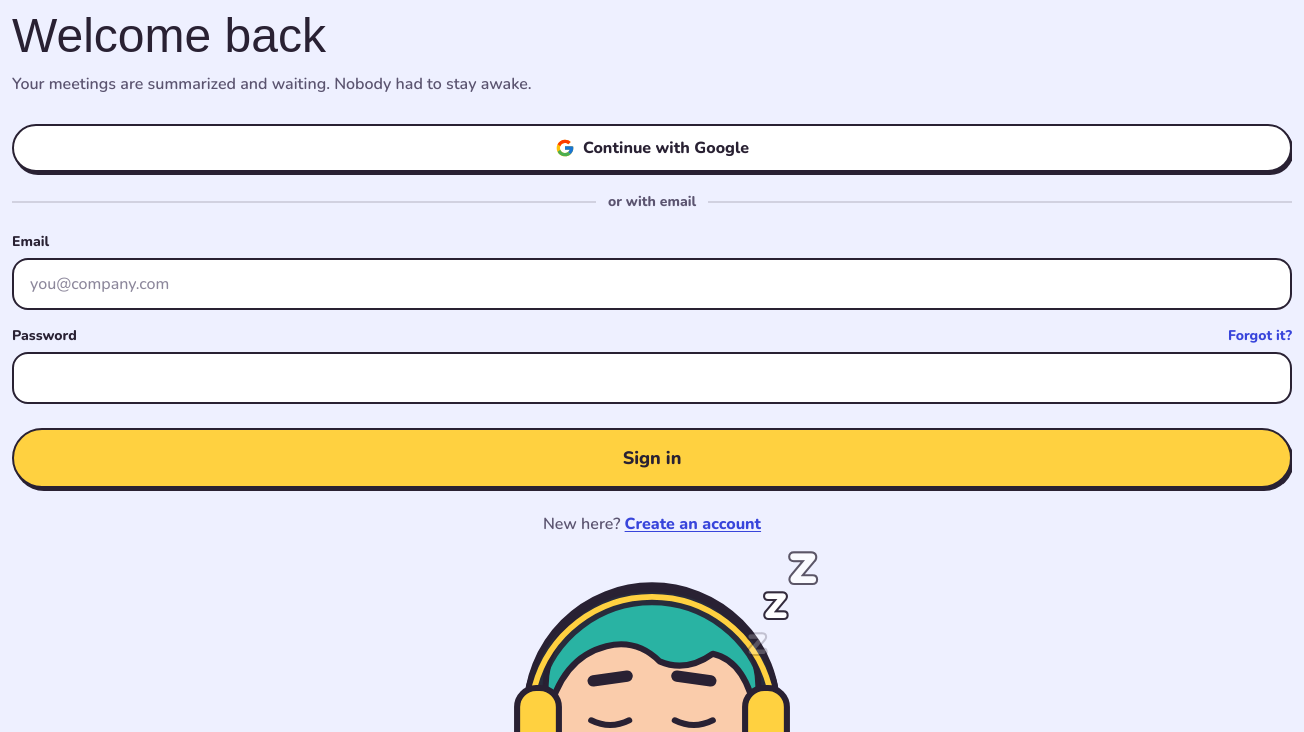
it: AuthForm › signs in with email and password
Type " me@example.com " into the field labelled "Email" at (652, 284), box [12,258,1292,310]
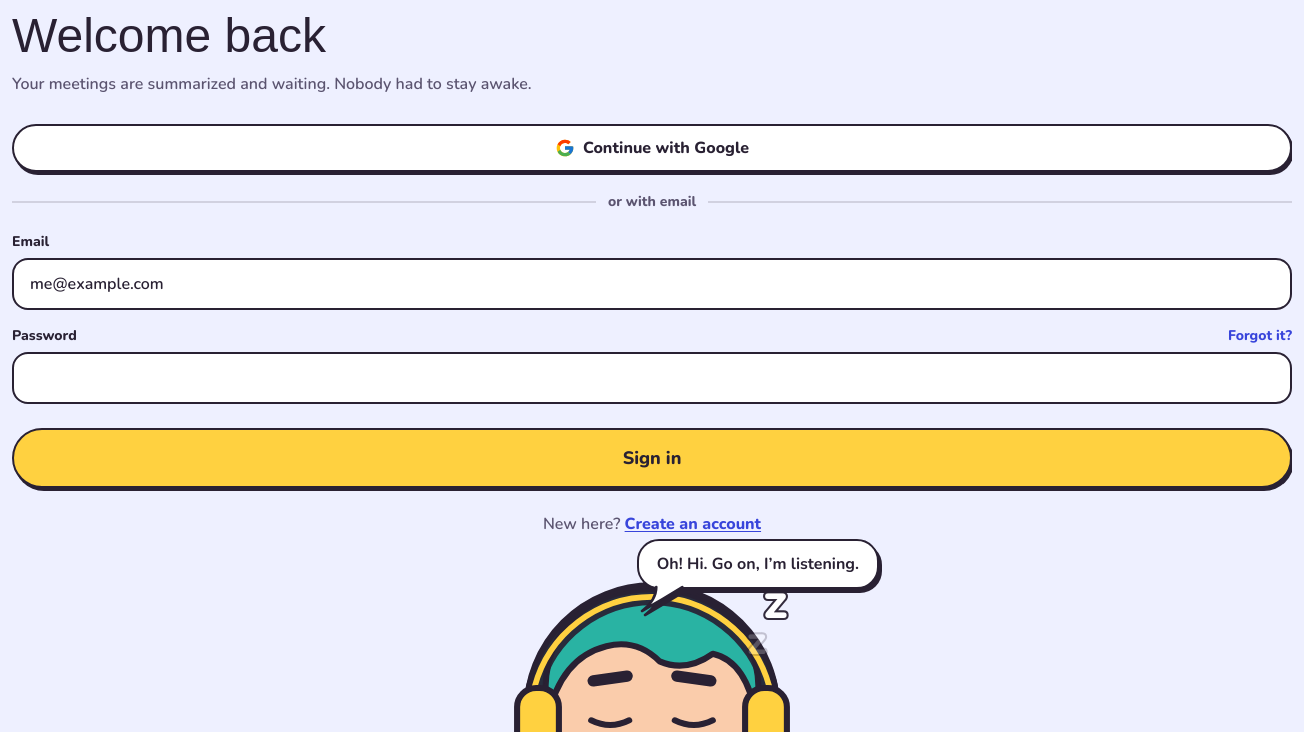
Now the text "Oh! Hi. Go on, I’m listening." is shown, box [637,539,879,589]
Type "secret1" into the password field labelled "Password" at (652, 378), box [12,352,1292,404]
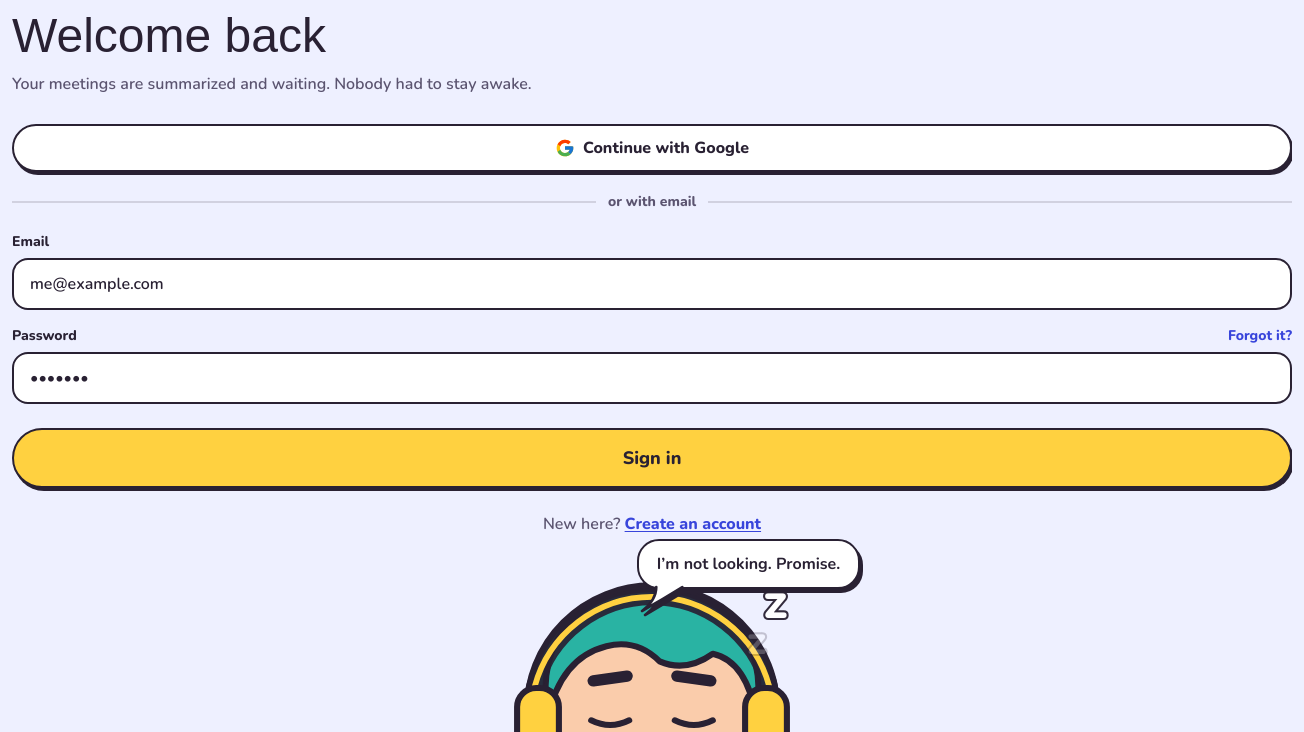
Now the text "I’m not looking. Promise." is shown, box [637,539,860,589]
Submit the form "Sign in", box [12,232,1292,488]
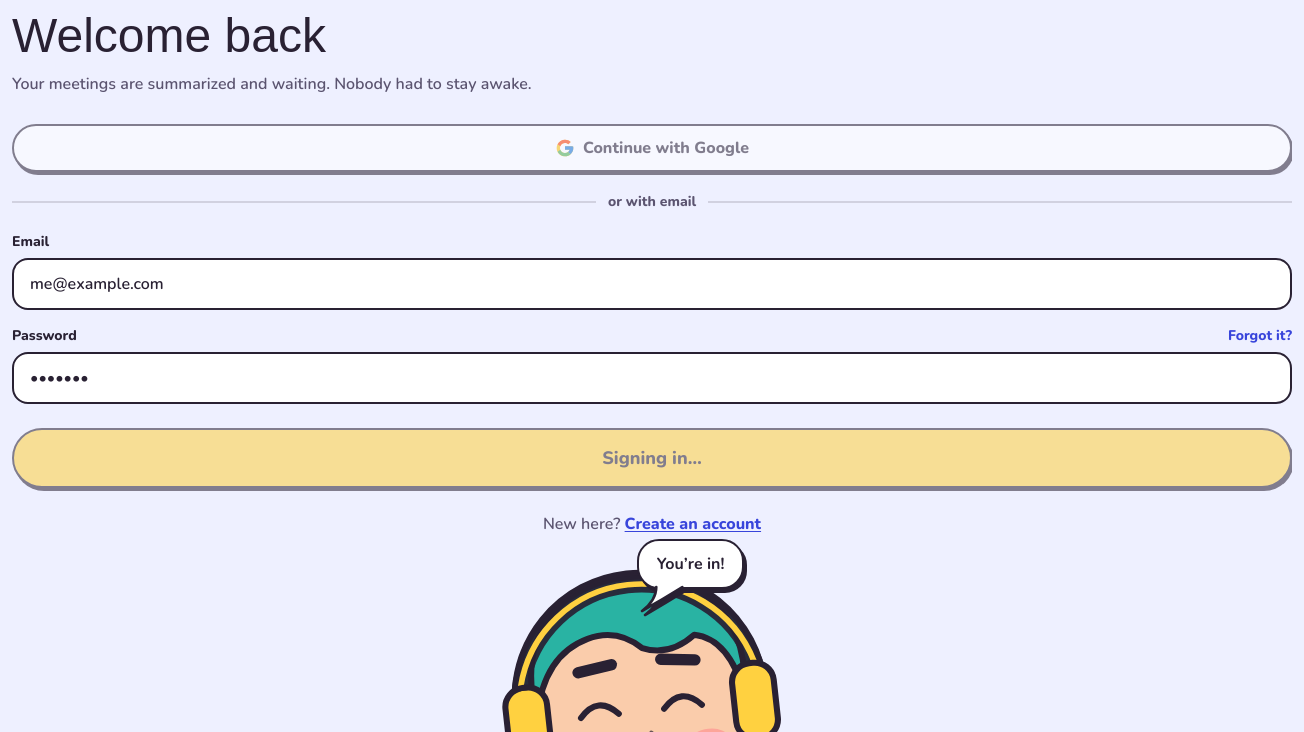
Now the text "You’re in!" is shown, box [637,539,744,589]
